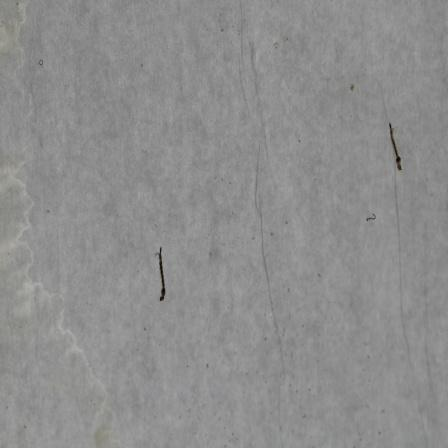Jentik-Nyamuk: (386, 121, 406, 175), (154, 244, 170, 305)
